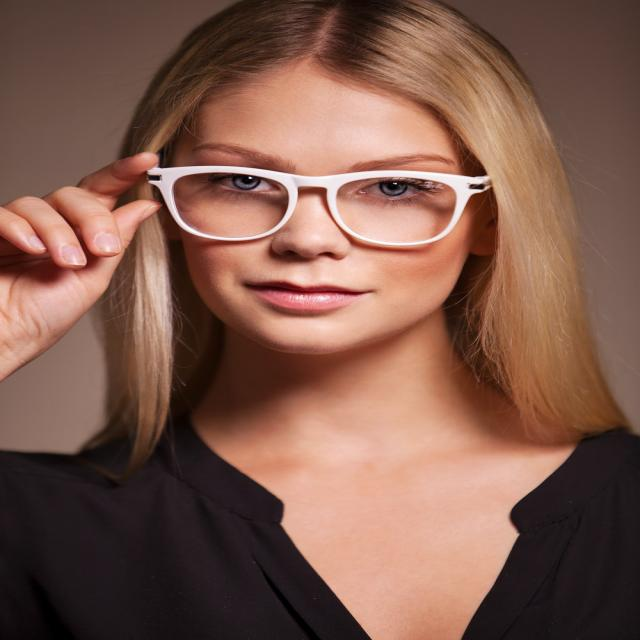Glasses: (146, 160, 492, 248)
